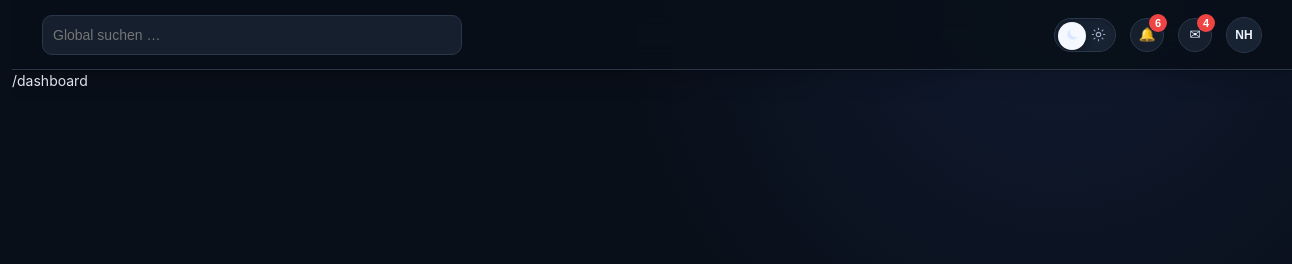
Test: TopBar › verdrahtet Aktionsbuttons mit Routen und Live-Badges
Expected: the text "6" is shown, [1149, 14, 1167, 32]
Expected: the text "4" is shown, [1197, 14, 1215, 32]
Click the button named "Benachrichtigungen". click: coordinates (1147, 34)
box: [1130, 18, 1164, 52]
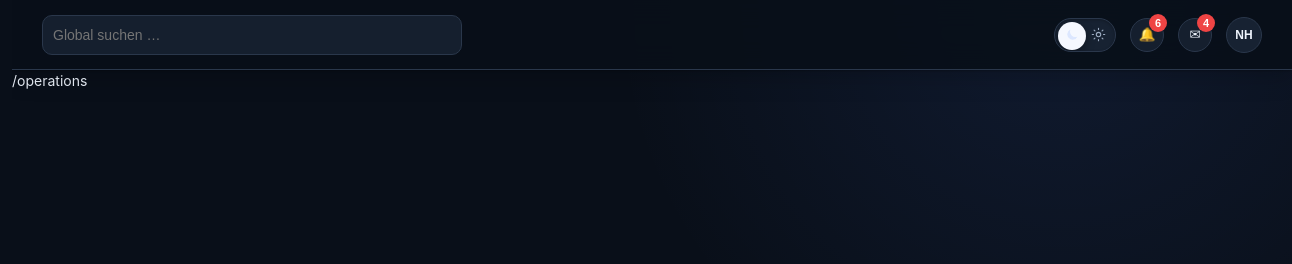
Expected: the text with test id "location" reads "/operations", [12, 72, 87, 89]
Click the button named "Nachrichten". click: coordinates (1195, 34)
box: [1178, 18, 1212, 52]
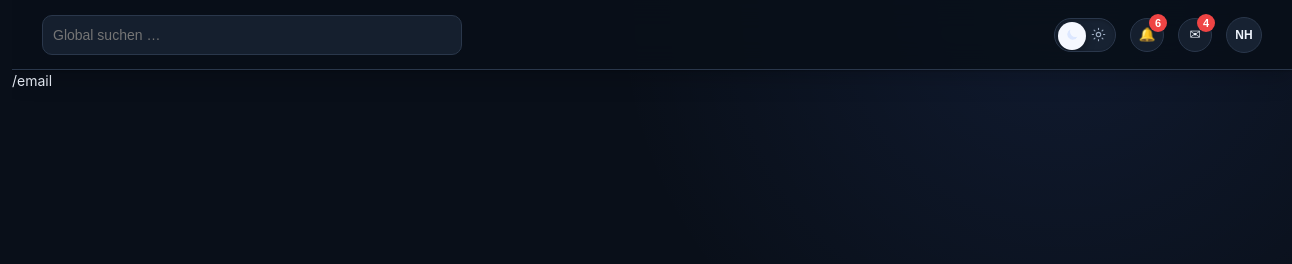
Expected: the text with test id "location" reads "/email", [12, 72, 52, 89]
Click the button with aria-label "Profil öffnen". click: coordinates (1244, 34)
box: [1226, 16, 1262, 52]
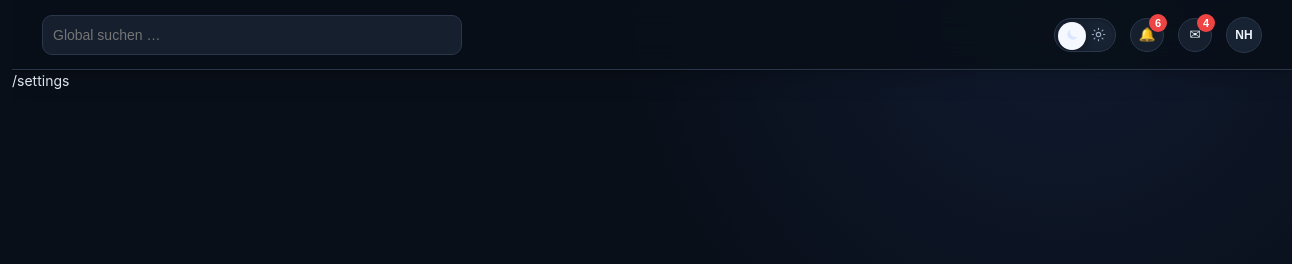
Expected: the text with test id "location" reads "/settings", [12, 72, 69, 89]
